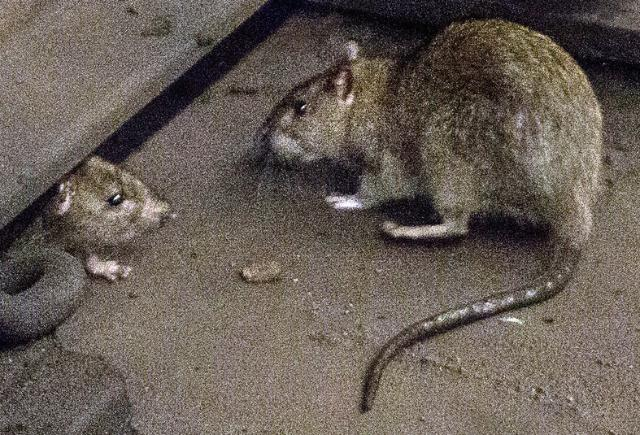rat: (234, 8, 610, 418), (28, 136, 202, 302)
